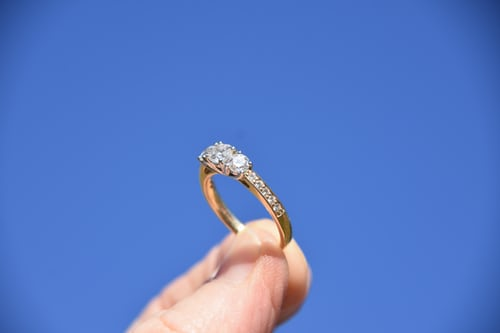ring: (171, 140, 306, 252)
